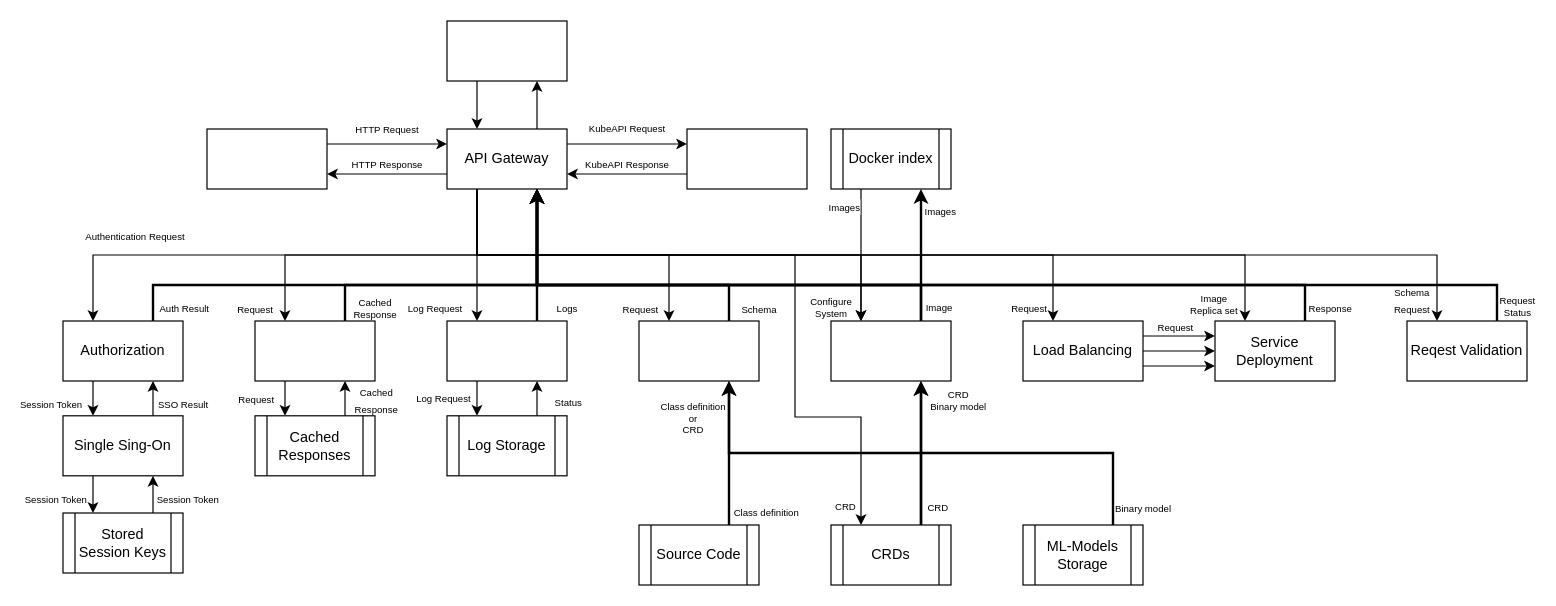
Image size: 1556x606. Some labels were removed from this diagram. The shapes that lost their labels are listed below. From the top down, each one's centre as x and y in pixels, then its label:
point (506, 50): External APIs
point (266, 158): User
point (746, 158): Kubernetes Cluster
point (314, 350): Response Caching
point (506, 350): Traffic Monitoring
point (698, 350): OpenAPI Schema Generation
point (890, 350): ML-model Containerization
